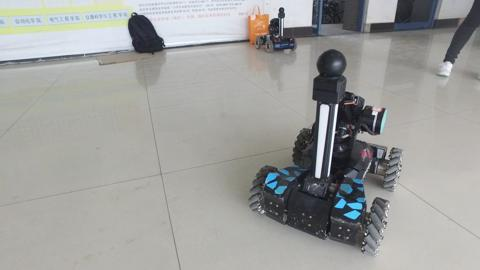bag: (125, 9, 167, 55), (246, 3, 270, 45)
chariot: (247, 47, 403, 257), (254, 6, 299, 54)
